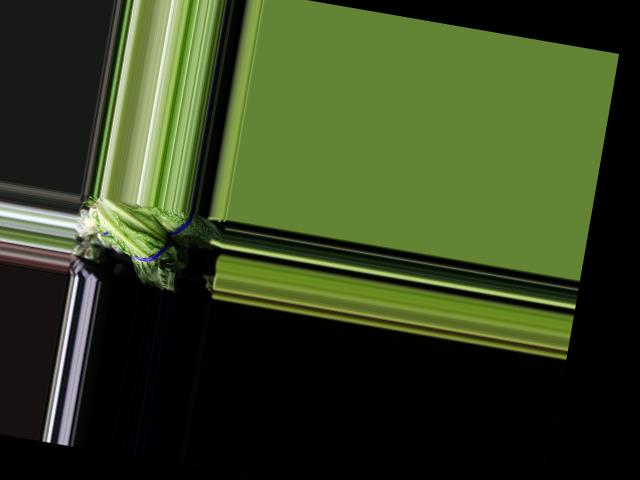lettuce: (90, 197, 193, 286)
